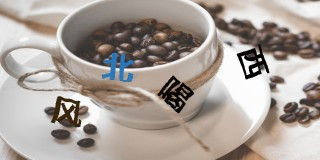北: (101, 52, 135, 83)
喝: (155, 74, 196, 114)
西: (236, 44, 271, 80)
风: (51, 95, 82, 129)
